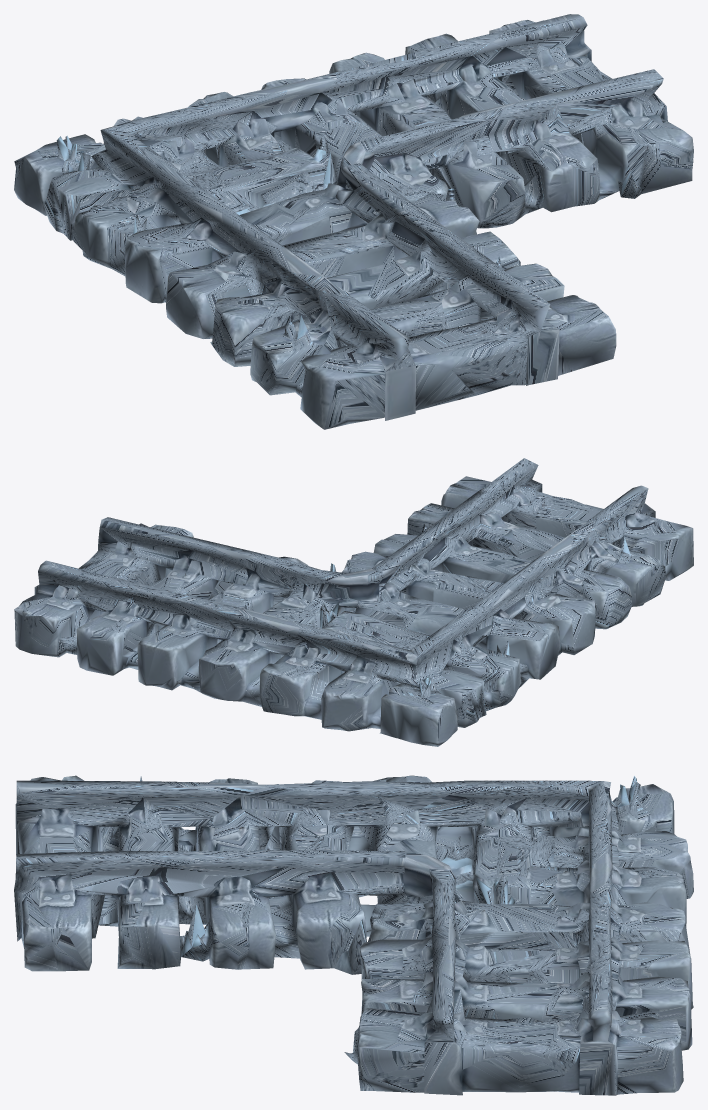
Rendered from frozen_rail_track_01.glb.
3 views of the same model, one above another, from view 1: azimuth 30°, elevation 25°; view 2: azimuth 150°, elevation 25°; view 3: azimuth 270°, elevation 25° (orthographic). The views are drawn at different scales.
Parts seen in each view (by area): view 1: tripo_node_94d6b725-c738-45ec-8a4d-9bb6dd8b2787; view 2: tripo_node_94d6b725-c738-45ec-8a4d-9bb6dd8b2787; view 3: tripo_node_94d6b725-c738-45ec-8a4d-9bb6dd8b2787.
Boxes of the visible parts, left/top/right/bottom form: tripo_node_94d6b725-c738-45ec-8a4d-9bb6dd8b2787: left=14, top=14, right=693, bottom=429; tripo_node_94d6b725-c738-45ec-8a4d-9bb6dd8b2787: left=14, top=458, right=693, bottom=746; tripo_node_94d6b725-c738-45ec-8a4d-9bb6dd8b2787: left=14, top=775, right=693, bottom=1095.
Size of the model in its own units: 0.9273 by 0.1292 by 0.979.
Materials: 1 (1 with a texture image).
